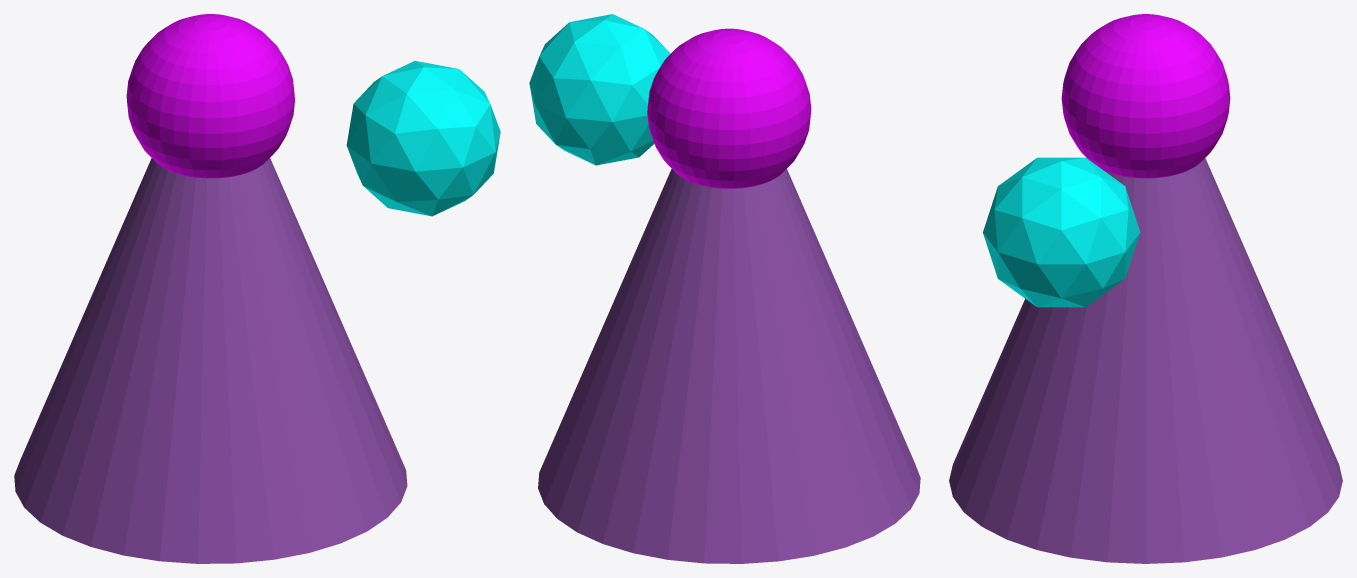
The model's file is void_mage.glb.
The picture shows the model from 3 angles, left to right: view 1: azimuth 30°, elevation 25°; view 2: azimuth 150°, elevation 25°; view 3: azimuth 270°, elevation 25°; orthographic projection. The views are drawn at different scales.
Parts seen in each view (by area): view 1: Cone, Sphere, Icosphere; view 2: Cone, Sphere, Icosphere; view 3: Cone, Sphere, Icosphere.
Boxes of the visible parts, x1,y1,x2,y2 form: Cone: [14, 158, 407, 563]; Sphere: [126, 14, 294, 178]; Icosphere: [346, 60, 500, 216]; Cone: [538, 169, 920, 563]; Sphere: [647, 28, 811, 188]; Icosphere: [529, 14, 670, 165]; Cone: [949, 158, 1342, 563]; Sphere: [1061, 14, 1230, 178]; Icosphere: [983, 157, 1140, 307].
Size of the model in its own units: 1.67 by 1.8 by 1.4.
